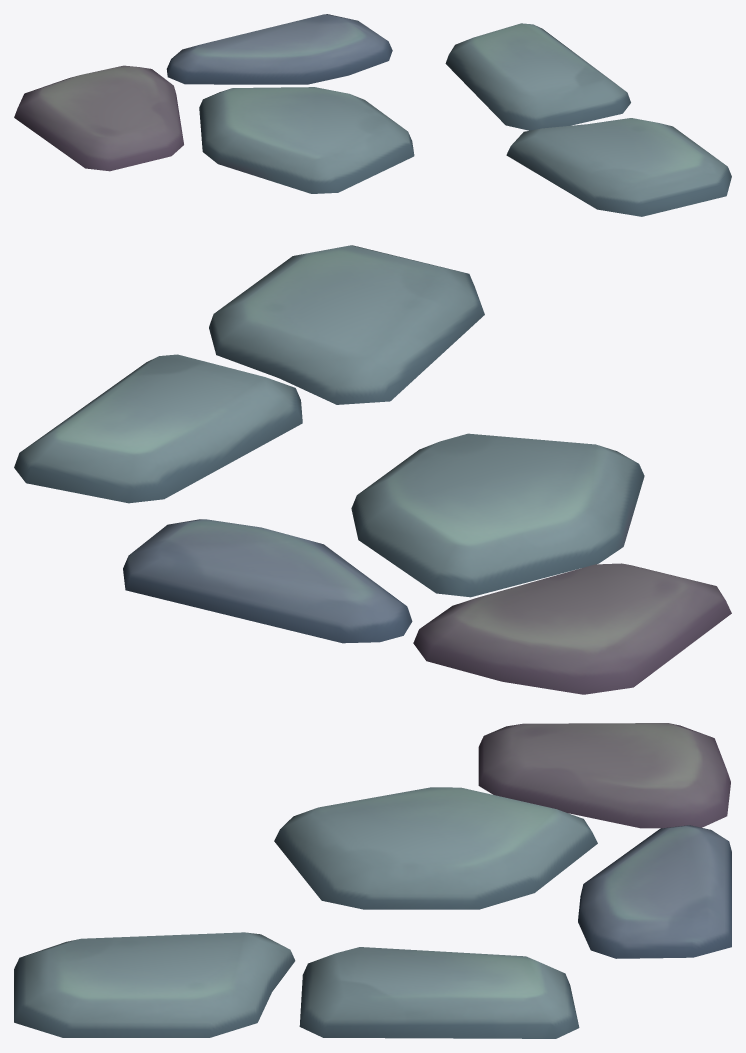
Rendered from Pebble_02.FBX.
The picture shows the model from 3 angles, top to bottom: view 1: azimuth 30°, elevation 25°; view 2: azimuth 150°, elevation 25°; view 3: azimuth 270°, elevation 25°; orthographic projection. The views are drawn at different scales.
Parts seen in each view (by area): view 1: Pebble_02; view 2: Pebble_02; view 3: Pebble_02.
Part boxes in pixels (x1,y1,x2,y2): Pebble_02: (14,14,731,216); Pebble_02: (14,245,731,694); Pebble_02: (14,723,731,1038).
Bounding box in the file's own units: 93.79 × 4.2 × 94.
